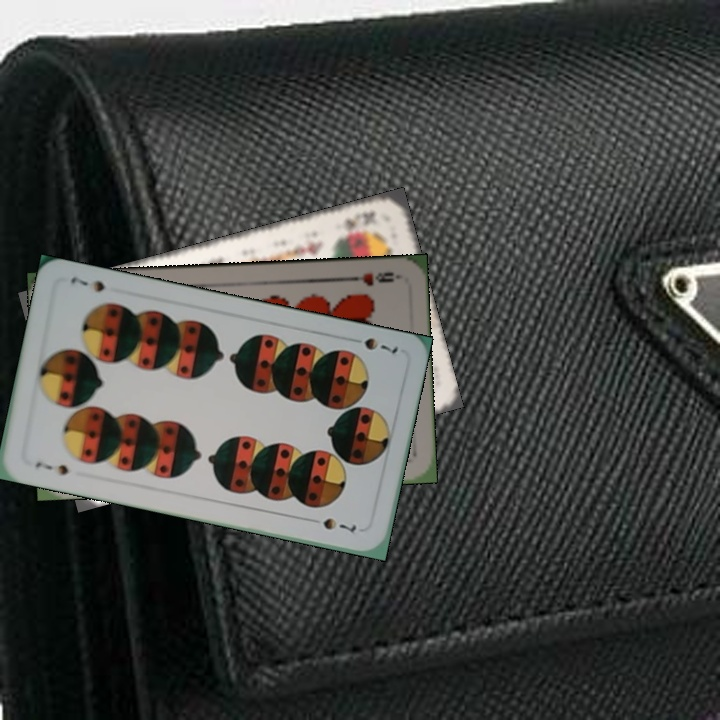H9: (342, 268, 401, 289)
S7: (345, 333, 401, 356), (31, 457, 71, 478)
SK: (340, 207, 380, 231)
